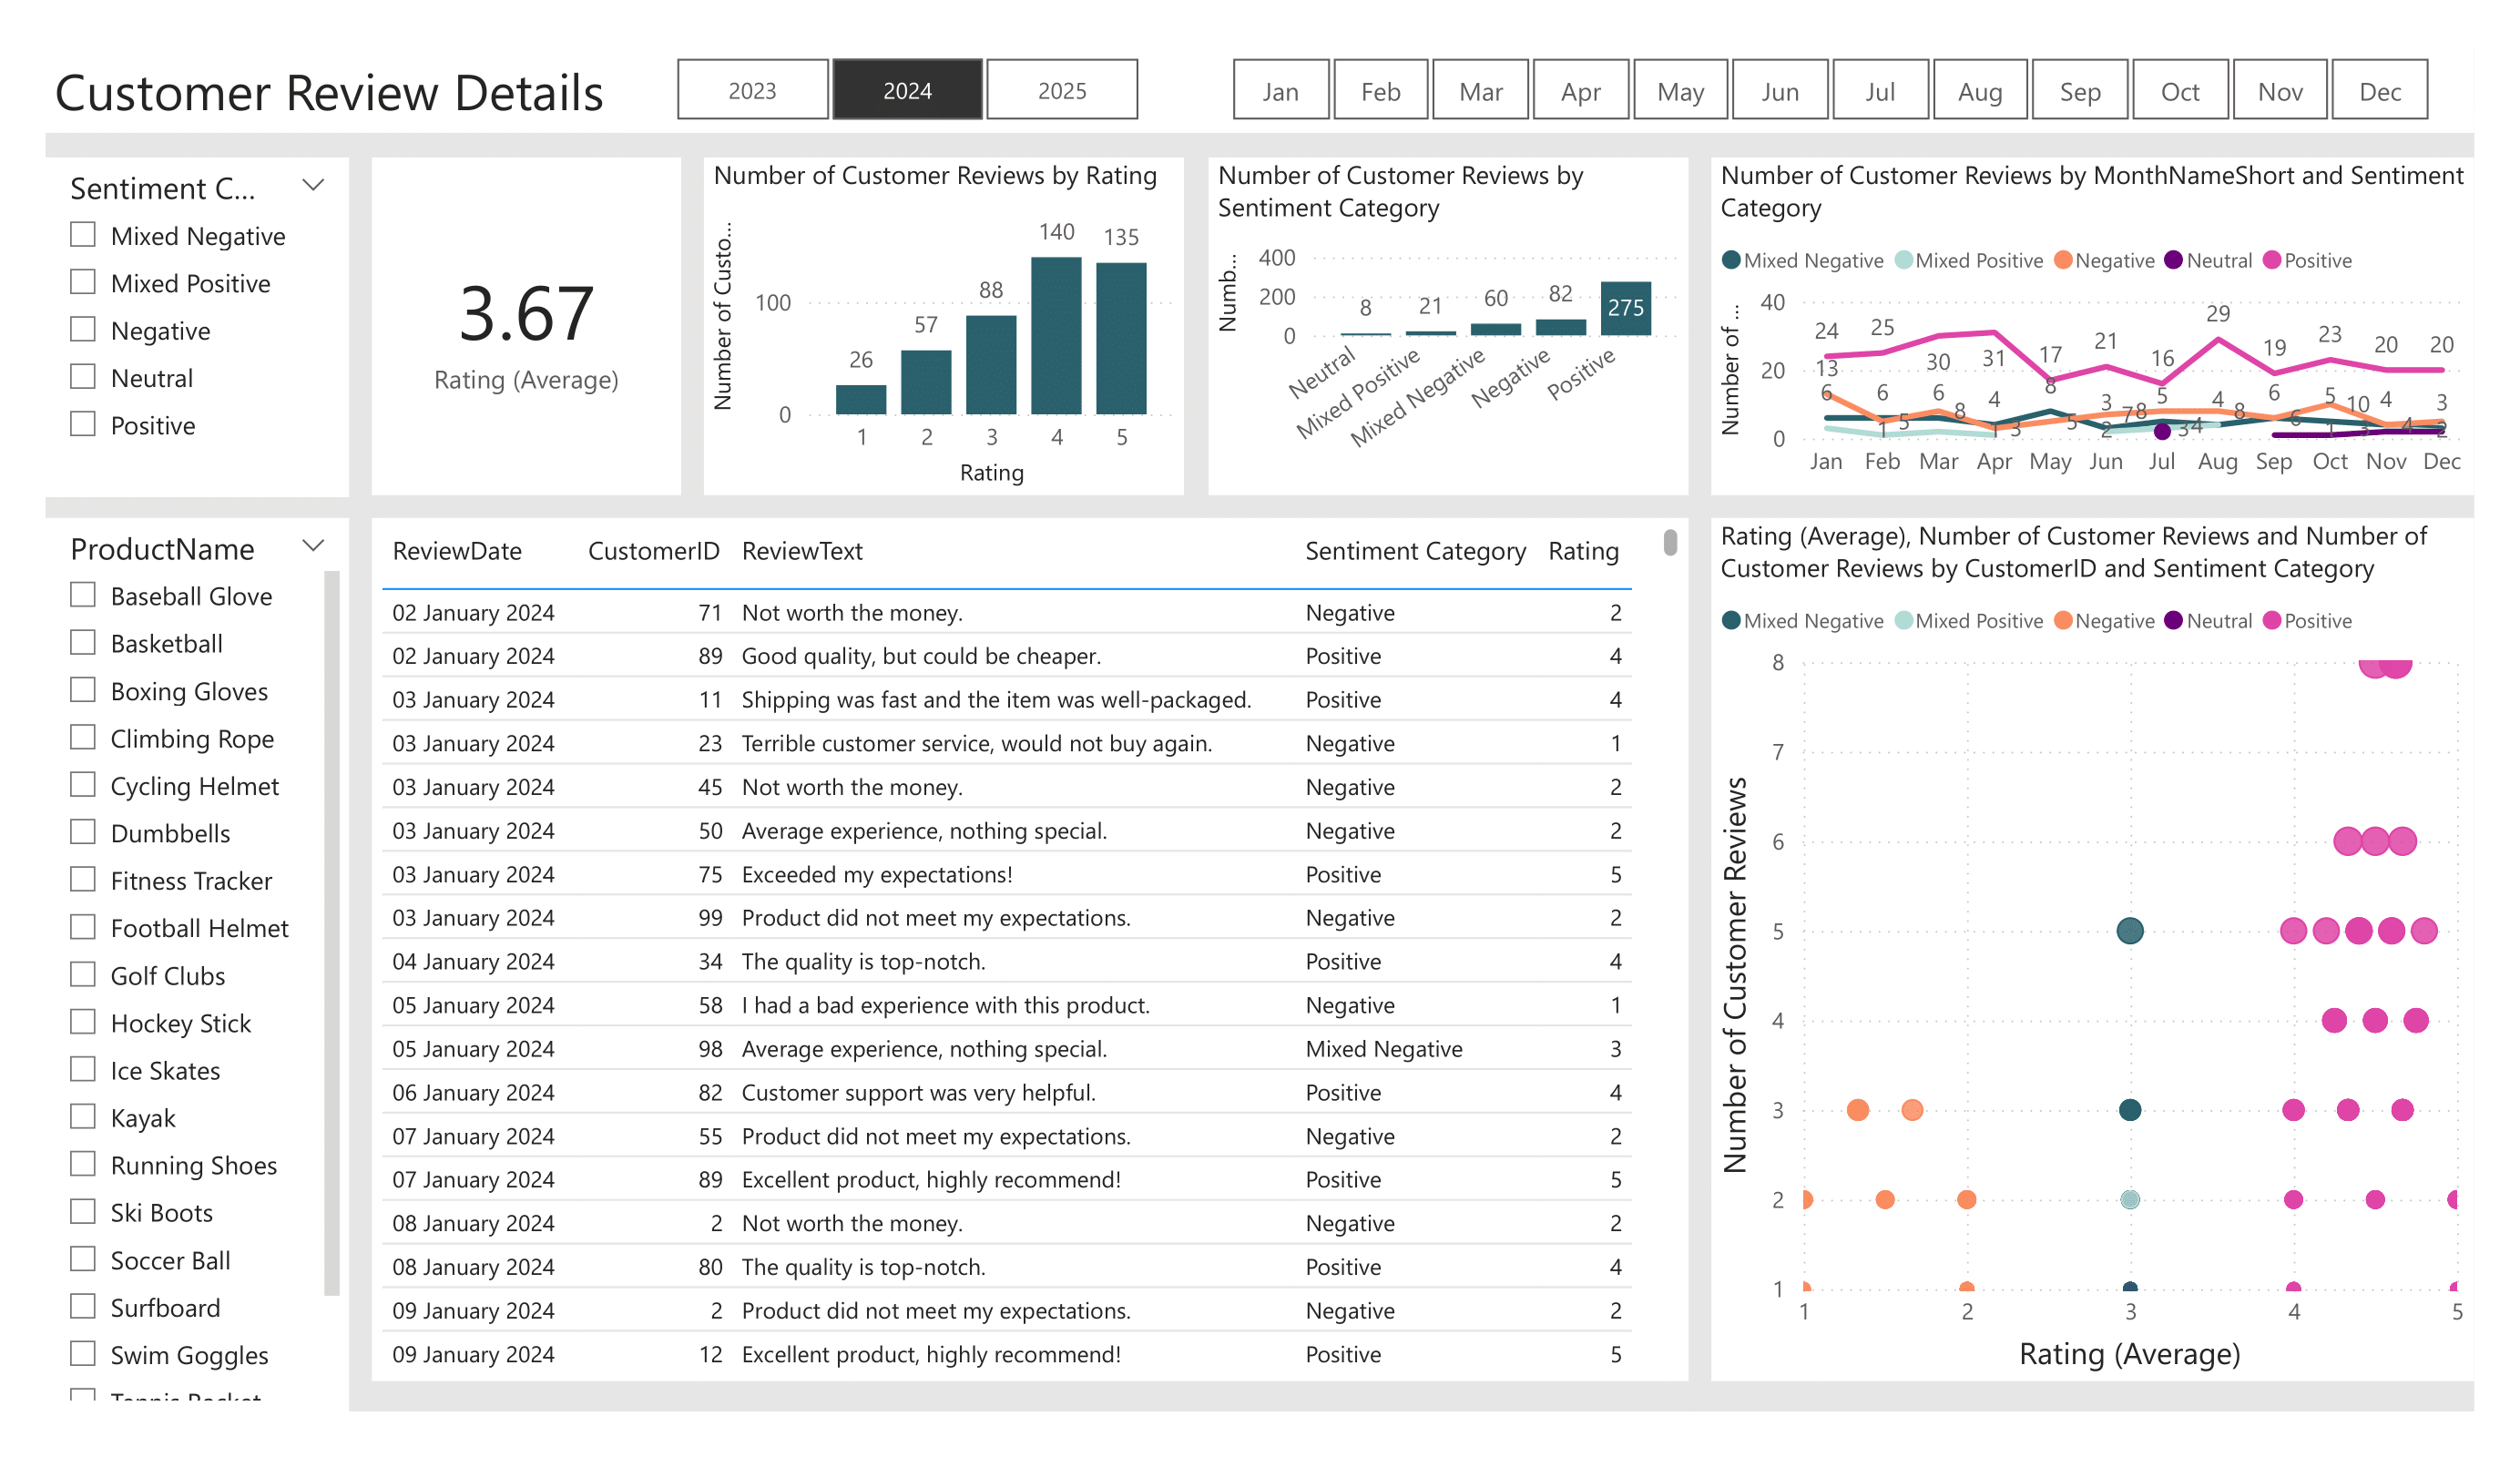

The page's visual inventory and layout, read from the dashboard file:
{"tool":"powerbi","page":{"name":"Customer Review Details","canvas":[1280,720],"ordinal":3},"visuals":[{"type":"textbox","box":[0,0,1280.3,46.5],"z":0},{"type":"slicer","fields":{"Values":["dim_products.ProductName"]},"box":[0,249.5,160.2,470.8],"z":1000},{"type":"slicer","fields":{"Values":["Calendar.Year"]},"box":[306.9,0,293.5,46.5],"z":2000},{"type":"slicer","fields":{"Values":["Calendar.MonthNameShort"]},"box":[600.4,0,679.9,46.5],"z":3000},{"type":"card","fields":{"Values":["_Calculations.Rating (Average)"]},"box":[172.4,58.7,162.6,178.5],"z":4000},{"type":"clusteredColumnChart","fields":{"Y":["_Calculations.Number of Customer Reviews"],"Category":["fact_customer_reviews_with_sentiment.Rating"]},"box":[347.3,58.7,253.1,178.5],"z":5000},{"type":"clusteredColumnChart","fields":{"Category":["fact_customer_reviews_with_sentiment.Sentiment Category"],"Y":["_Calculations.Number of Customer Reviews"]},"box":[612.6,58.7,253.1,178.5],"z":6000},{"type":"lineChart","fields":{"Y":["_Calculations.Number of Customer Reviews"],"Category":["Calendar.MonthNameShort"],"Series":["fact_customer_reviews_with_sentiment.Sentiment Category"]},"box":[878,58.7,402.3,178.5],"z":7000},{"type":"tableEx","fields":{"Values":["fact_customer_reviews_with_sentiment.ReviewDate","fact_customer_reviews_with_sentiment.CustomerID","fact_customer_reviews_with_sentiment.ReviewText","fact_customer_reviews_with_sentiment.Sentiment Category","fact_customer_reviews_with_sentiment.Rating"]},"box":[172.4,249.5,693.3,454.9],"z":8000},{"type":"scatterChart","fields":{"X":["_Calculations.Rating (Average)"],"Y":["_Calculations.Number of Customer Reviews"],"Category":["dim_customers.CustomerID"],"Series":["fact_customer_reviews_with_sentiment.Sentiment Category"],"Size":["_Calculations.Number of Customer Reviews"]},"box":[878,249.5,402.3,454.9],"z":9000},{"type":"slicer","fields":{"Values":["fact_customer_reviews_with_sentiment.Sentiment Category"]},"box":[0,58.7,160.2,179.8],"z":10000}]}

Visuals, with their boxes on the page's 1280x720 design canvas (x1, y1, x2, y2). These are canvas units, not pixel positions in the 2520x1457 screenshot, which may show the page scaled, cropped or inside an application window:
textbox: [left=0, top=0, right=1280, bottom=46]
slicer - dim_products.ProductName: [left=0, top=250, right=160, bottom=720]
slicer - Calendar.Year: [left=307, top=0, right=600, bottom=46]
slicer - Calendar.MonthNameShort: [left=600, top=0, right=1280, bottom=46]
card - _Calculations.Rating (Average): [left=172, top=59, right=335, bottom=237]
clusteredColumnChart - _Calculations.Number of Customer Reviews x fact_customer_reviews_with_sentiment.Rating: [left=347, top=59, right=600, bottom=237]
clusteredColumnChart - fact_customer_reviews_with_sentiment.Sentiment Category x _Calculations.Number of Customer Reviews: [left=613, top=59, right=866, bottom=237]
lineChart - _Calculations.Number of Customer Reviews x Calendar.MonthNameShort: [left=878, top=59, right=1280, bottom=237]
tableEx - fact_customer_reviews_with_sentiment.ReviewDate x fact_customer_reviews_with_sentiment.CustomerID: [left=172, top=250, right=866, bottom=704]
scatterChart - _Calculations.Rating (Average) x _Calculations.Number of Customer Reviews: [left=878, top=250, right=1280, bottom=704]
slicer - fact_customer_reviews_with_sentiment.Sentiment Category: [left=0, top=59, right=160, bottom=238]
